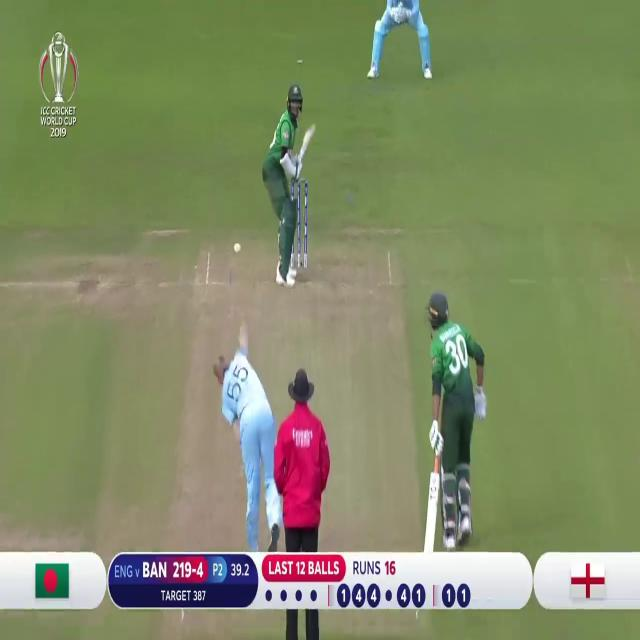ball: (230, 234, 244, 263)
